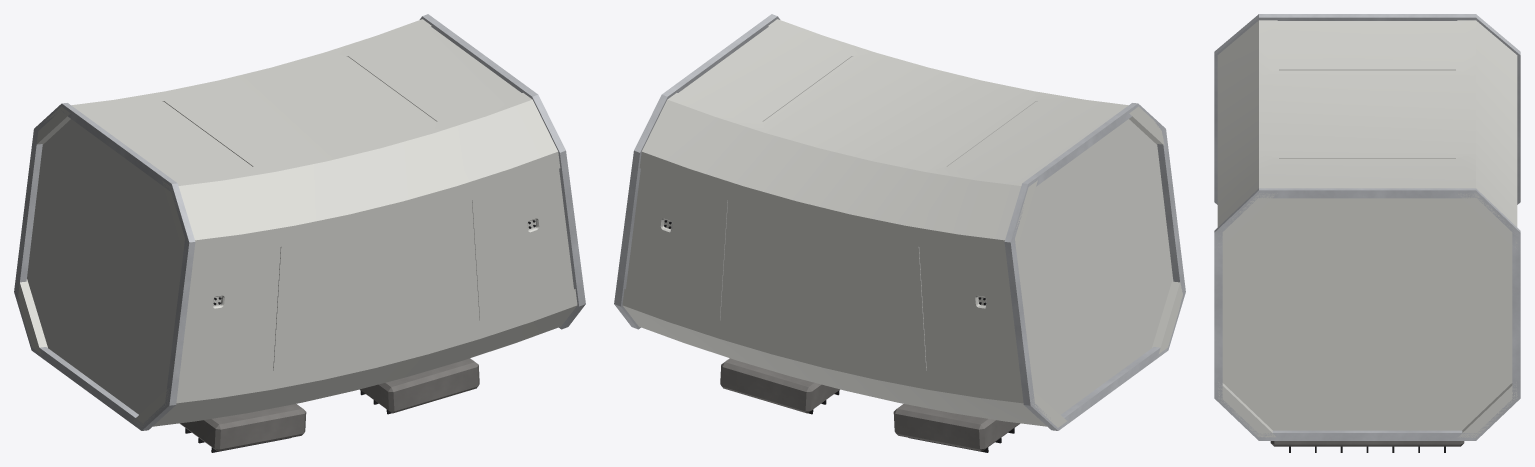
Rendered from ax_grav_11_spin_drive.glb.
The picture shows the model from 3 angles, left to right: view 1: azimuth 30°, elevation 25°; view 2: azimuth 150°, elevation 25°; view 3: azimuth 270°, elevation 25°; orthographic projection.
Parts seen in each view (by area): view 1: hull, end_flanges, rim_drive_stators; view 2: hull, end_flanges, rim_drive_stators; view 3: hull, end_flanges, rim_drive_stators.
Boxes of the visible parts, box(x1,y1,x2,y2) form: hull: box(17, 19, 577, 427); end_flanges: box(14, 14, 585, 430); rim_drive_stators: box(179, 358, 479, 451); hull: box(622, 19, 1182, 427); end_flanges: box(614, 14, 1185, 430); rim_drive_stators: box(720, 358, 1020, 451); hull: box(1217, 20, 1517, 437); end_flanges: box(1214, 14, 1520, 440); rim_drive_stators: box(1270, 441, 1464, 446).
Size of the model in its own units: 7.52 by 5.02 by 4.74.
Materials: 4 (2 with a texture image).
